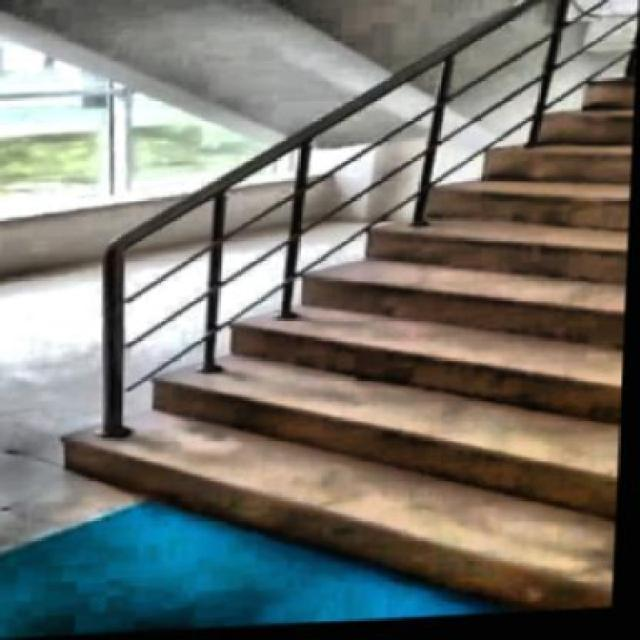stair: (34, 8, 637, 637)
